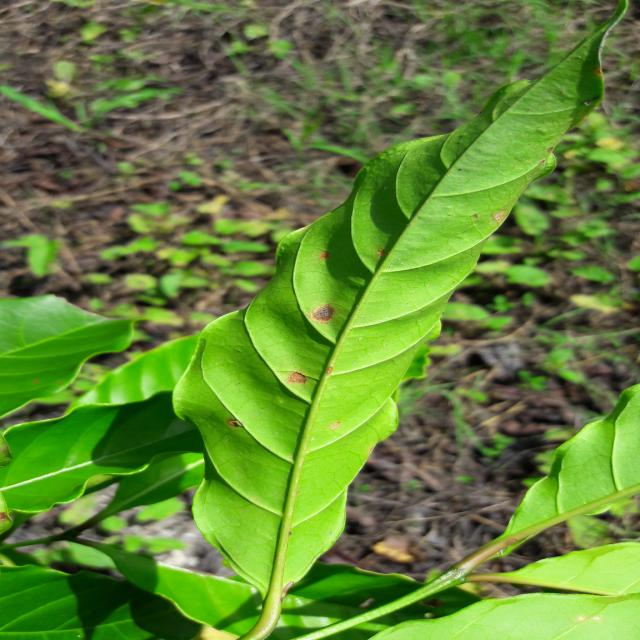Plaga-AranaRoja: (171, 24, 609, 640)
